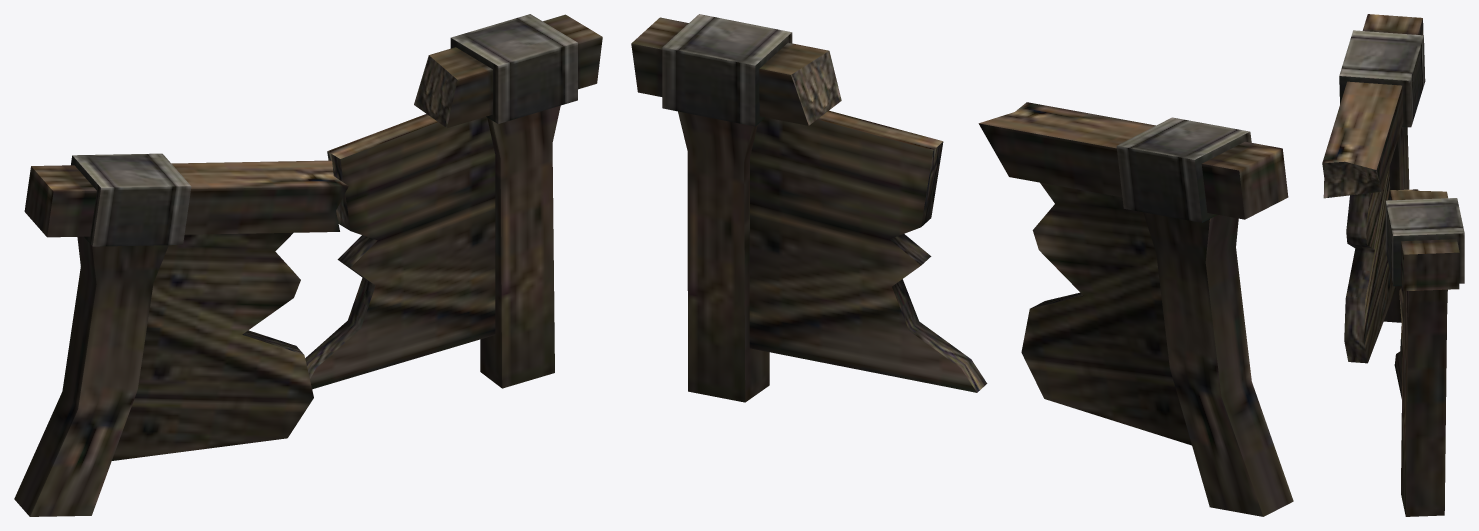
Rendered from Treasure_Enclosure_04.FBX.
3 views of the same model, side by side, from view 1: azimuth 30°, elevation 25°; view 2: azimuth 150°, elevation 25°; view 3: azimuth 270°, elevation 25° (orthographic). The views are drawn at different scales.
Visible parts, largest first — view 1: Treasure_Enclosure_04; view 2: Treasure_Enclosure_04; view 3: Treasure_Enclosure_04.
Boxes of the visible parts, bbox=[...] form: Treasure_Enclosure_04: bbox=[14, 14, 602, 516]; Treasure_Enclosure_04: bbox=[631, 14, 1293, 516]; Treasure_Enclosure_04: bbox=[1322, 14, 1464, 516].
Bounding box in the file's own units: 2.25 × 1.25 × 0.5462.
